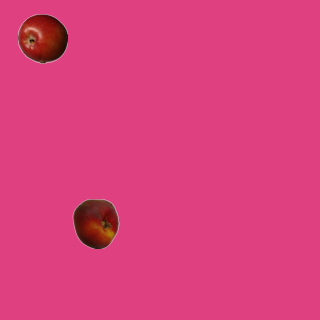Apple Braeburn: (17, 13, 67, 63)
Nectarine Flat: (70, 198, 120, 248)
